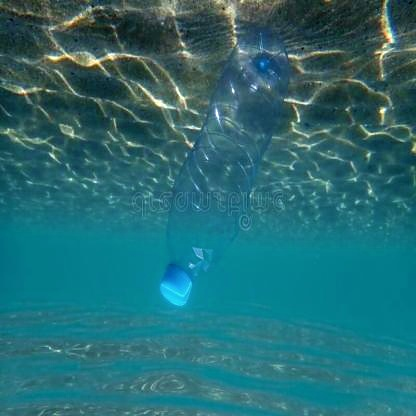pbottle: (153, 19, 292, 313)
